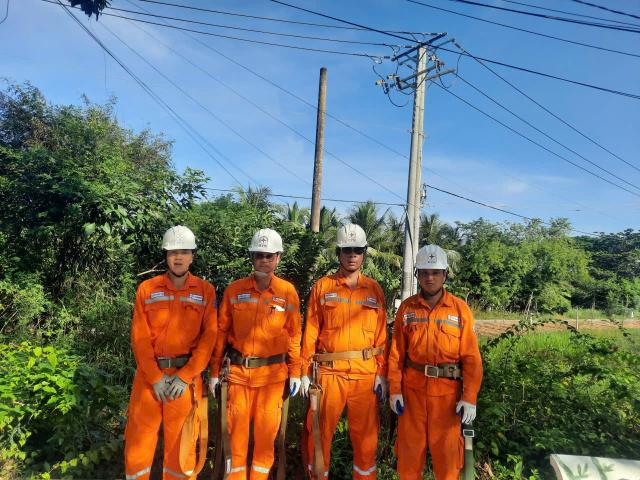gloves: (451, 396, 484, 428), (162, 368, 194, 399), (367, 374, 394, 404), (149, 376, 175, 404), (204, 376, 229, 400), (293, 373, 318, 397), (387, 391, 408, 417), (279, 375, 301, 398)
harness: (401, 349, 474, 387), (304, 343, 387, 370), (226, 339, 288, 374), (138, 349, 206, 373)
helmet: (158, 224, 208, 264), (327, 222, 376, 255), (411, 241, 456, 271), (249, 223, 280, 258)
